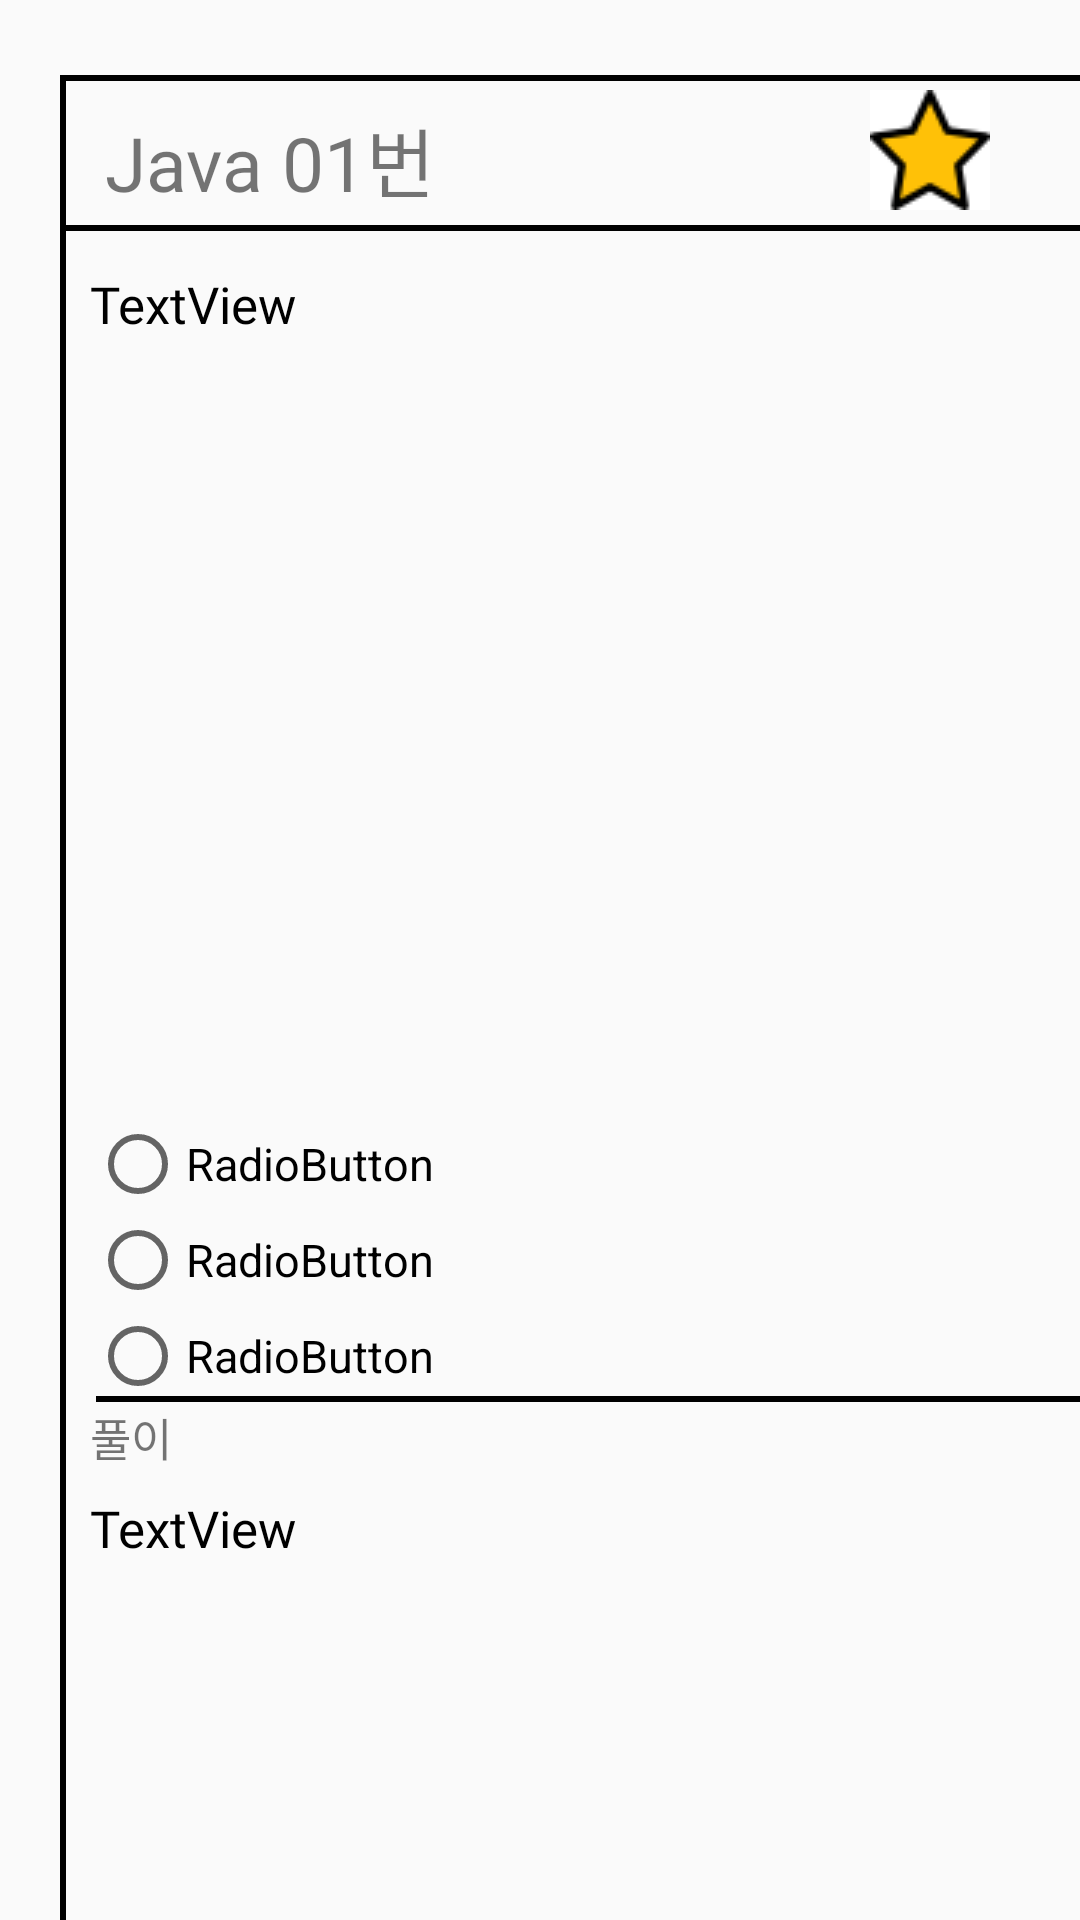

Icon click points for this 1080w x 1920h phone screenshot, format point (x, y):
star on: point (930, 150)
